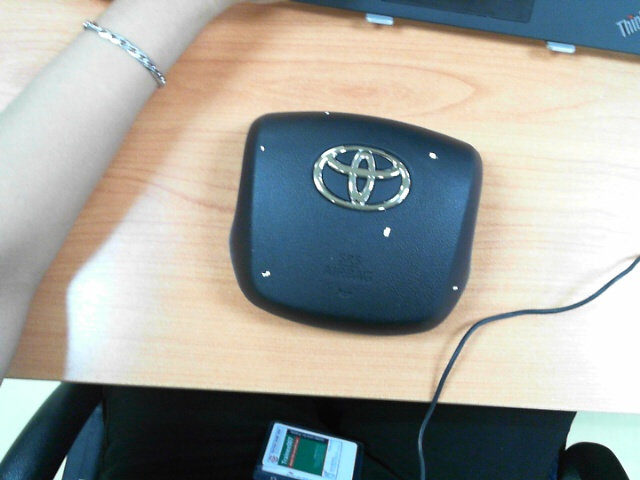Airbag: (382, 226, 392, 238), (428, 152, 438, 160), (261, 270, 272, 277), (259, 145, 266, 152), (452, 285, 459, 291), (325, 111, 331, 115)
